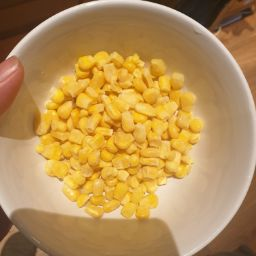Corn Kernel: (16, 129, 203, 221), (54, 56, 217, 156), (122, 40, 210, 222), (85, 43, 148, 248), (38, 58, 93, 221)
